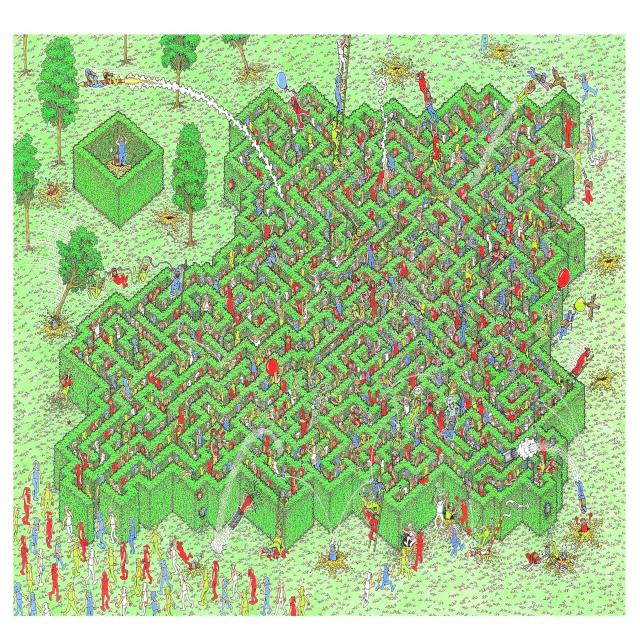waldo: (356, 277, 360, 288)
